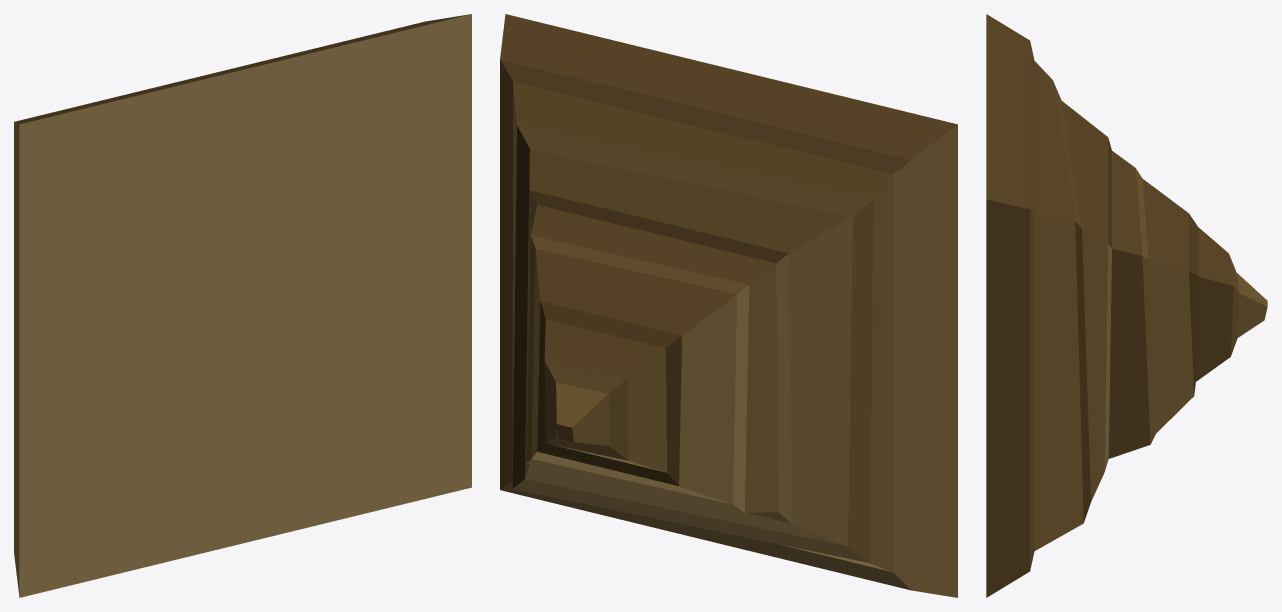
File: desert_pyramid_3.fbx
3 views of the same model, side by side, from view 1: azimuth 30°, elevation 25°; view 2: azimuth 150°, elevation 25°; view 3: azimuth 270°, elevation 25° (orthographic). The views are drawn at different scales.
Visible parts, largest first — view 1: desert_pyramid_3; view 2: desert_pyramid_3; view 3: desert_pyramid_3.
Boxes of the visible parts, box(x1,y1,x2,y2) form: desert_pyramid_3: box(14, 14, 471, 597); desert_pyramid_3: box(500, 14, 957, 597); desert_pyramid_3: box(986, 14, 1267, 597).
Size of the model in its own units: 544 by 544 by 348.
